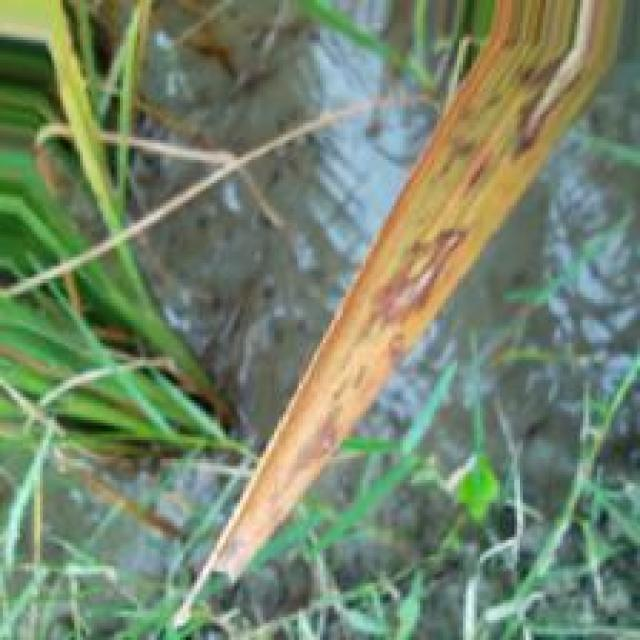Narrow_Brown_Leaf_Spot: (198, 0, 640, 593)
